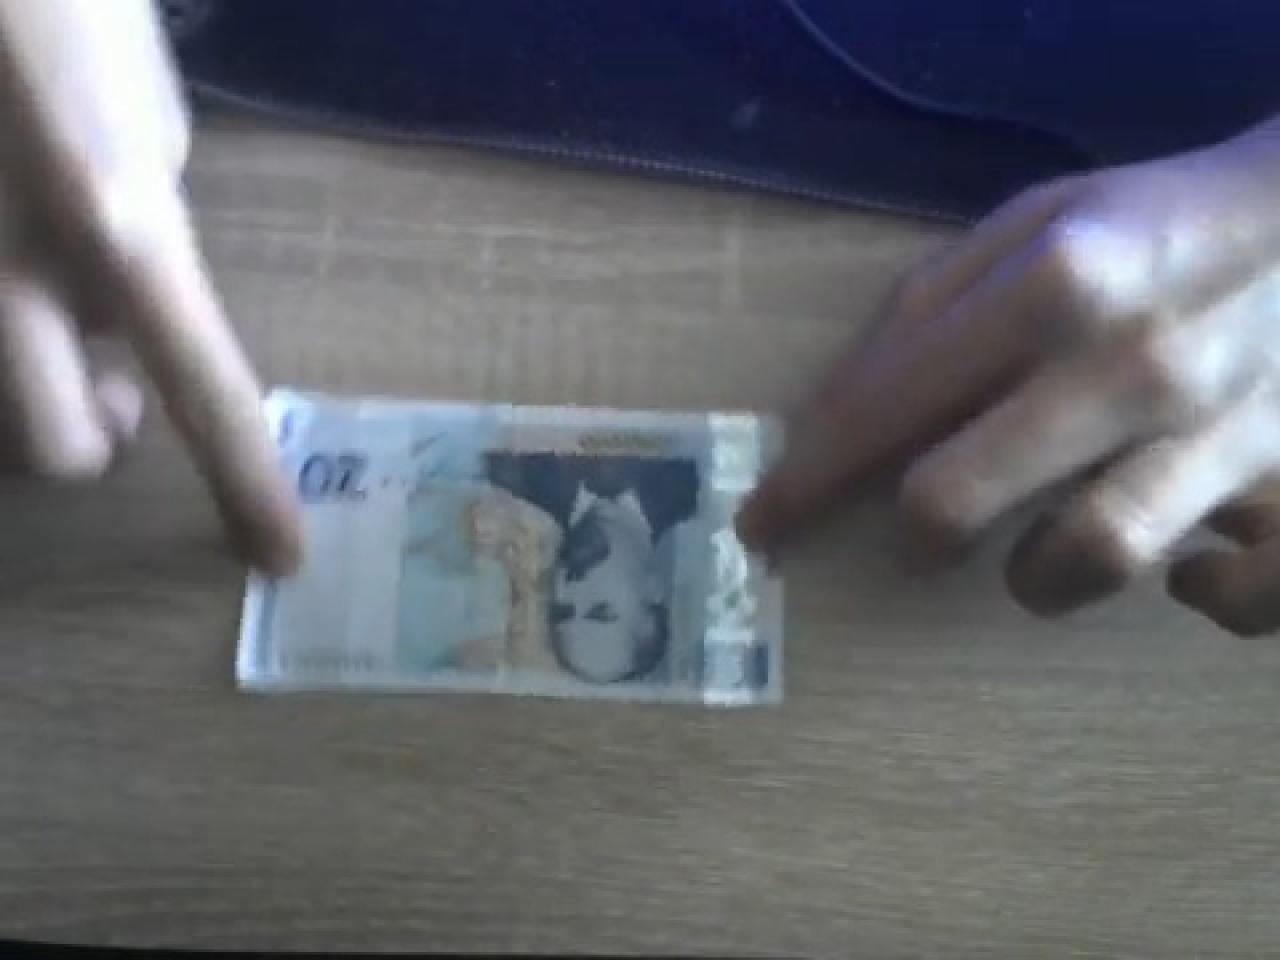20leva: (232, 392, 784, 712)
